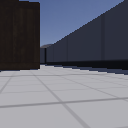obstacle: (1, 1, 41, 71)
